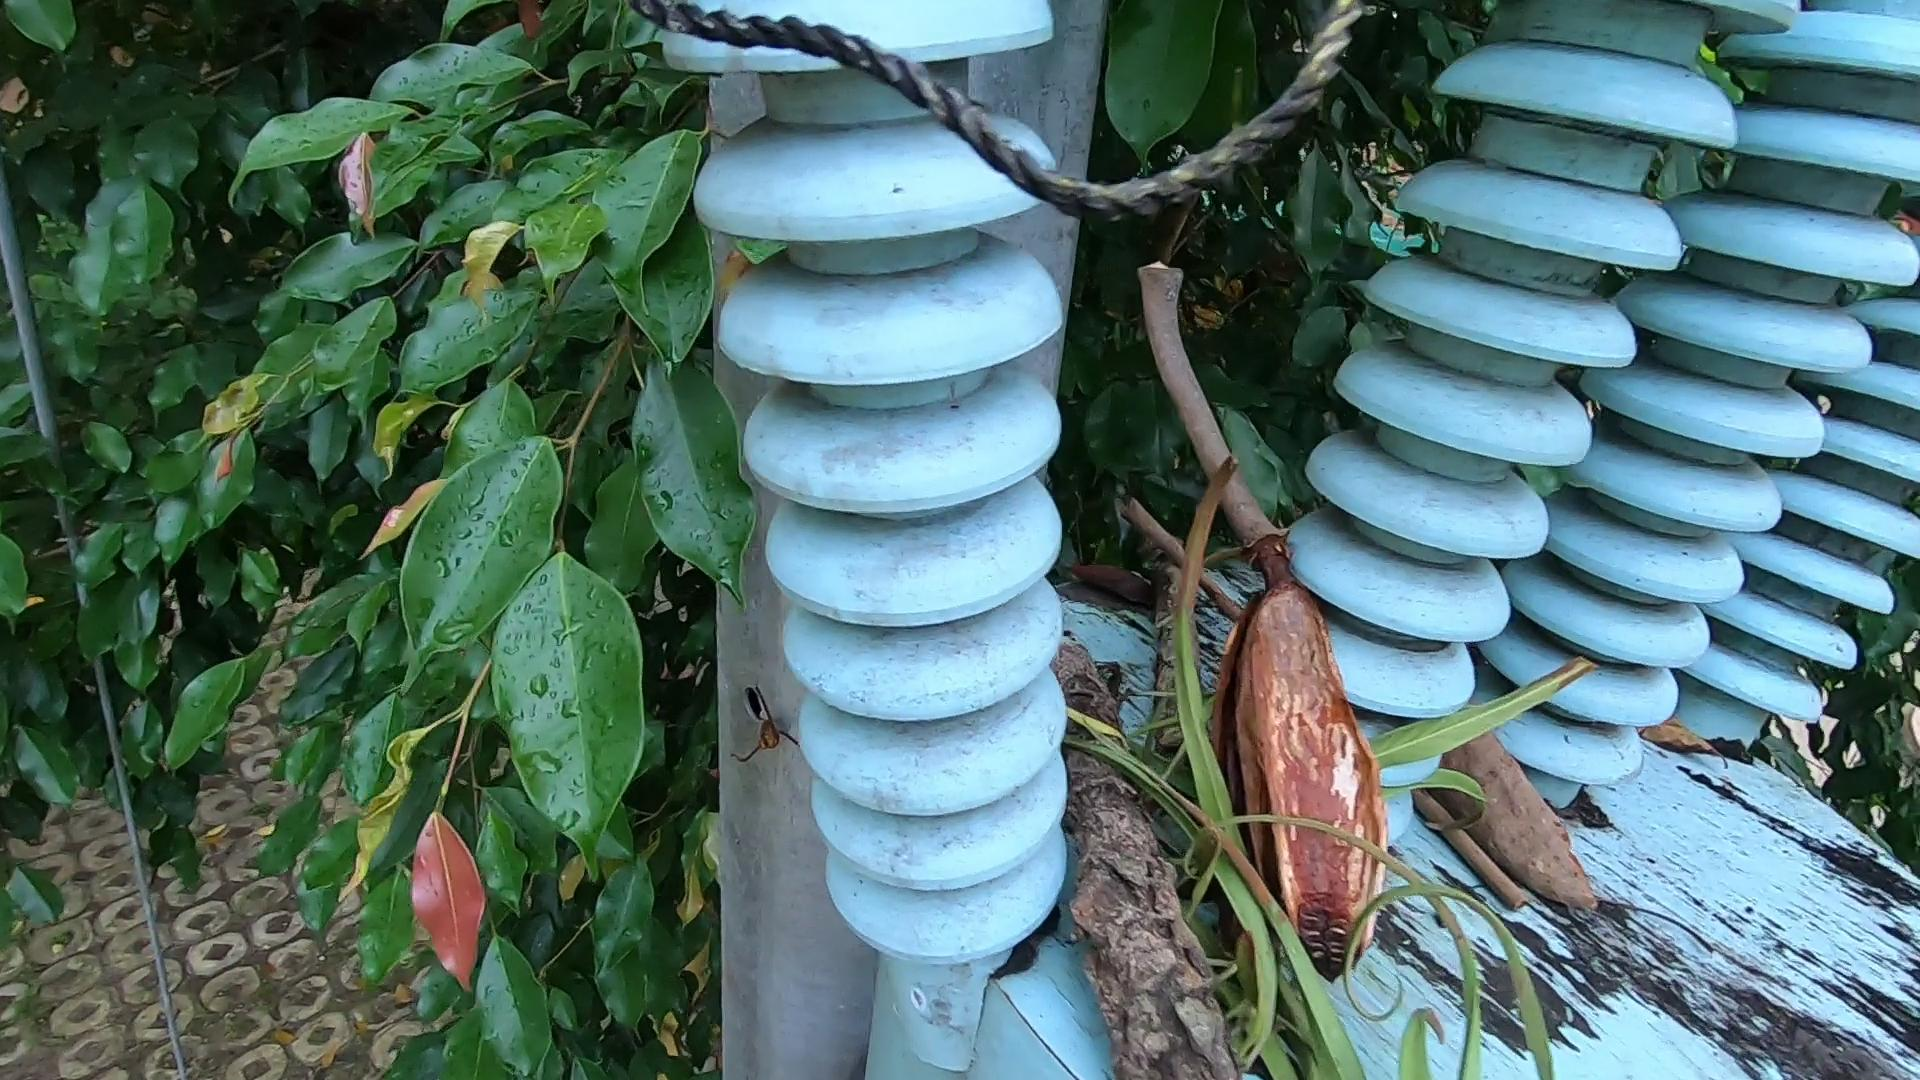branch with leaves: (1035, 454, 1607, 1080)
leaf: (1648, 709, 1737, 767), (1087, 559, 1193, 603)
mahogany fruit: (1203, 563, 1412, 1025), (1435, 702, 1664, 1004)
tree branch: (1110, 498, 1269, 628), (1408, 786, 1528, 909)
